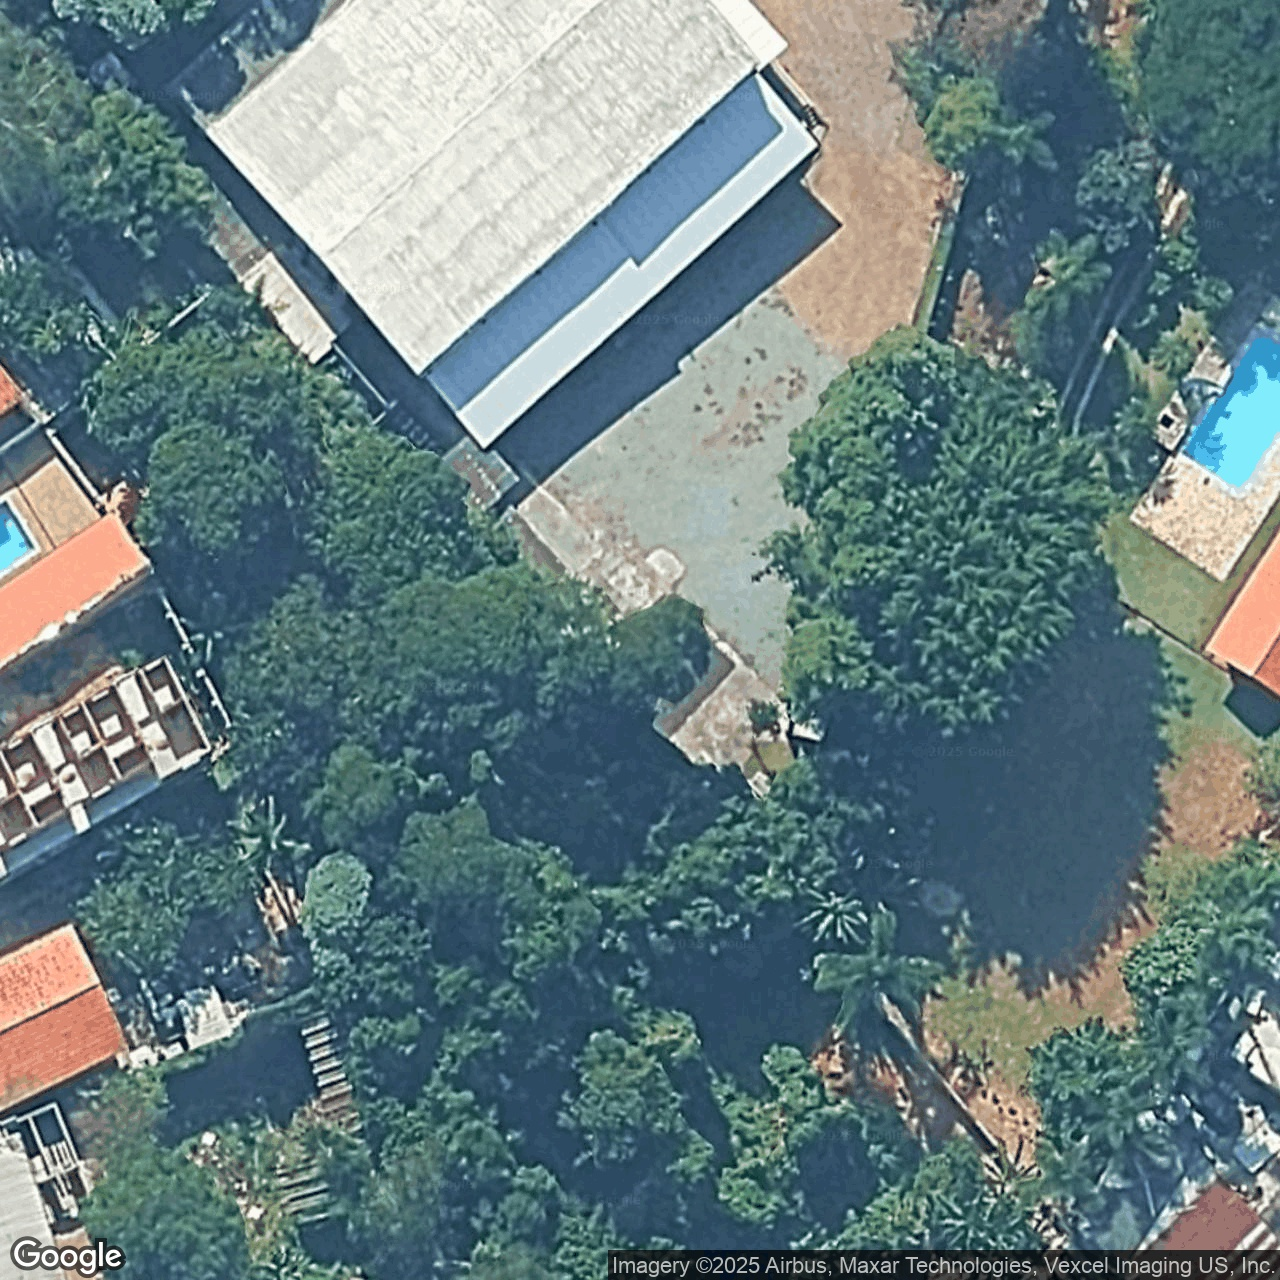pool: (1228, 408, 1244, 472), (13, 542, 32, 579)
